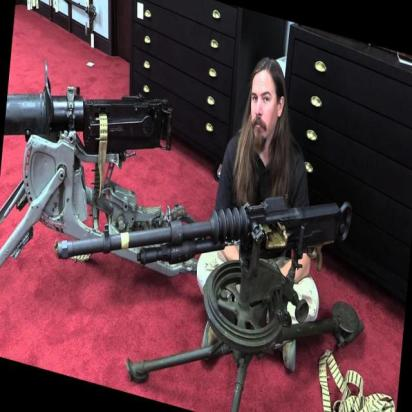Gun: (56, 120, 362, 342)
